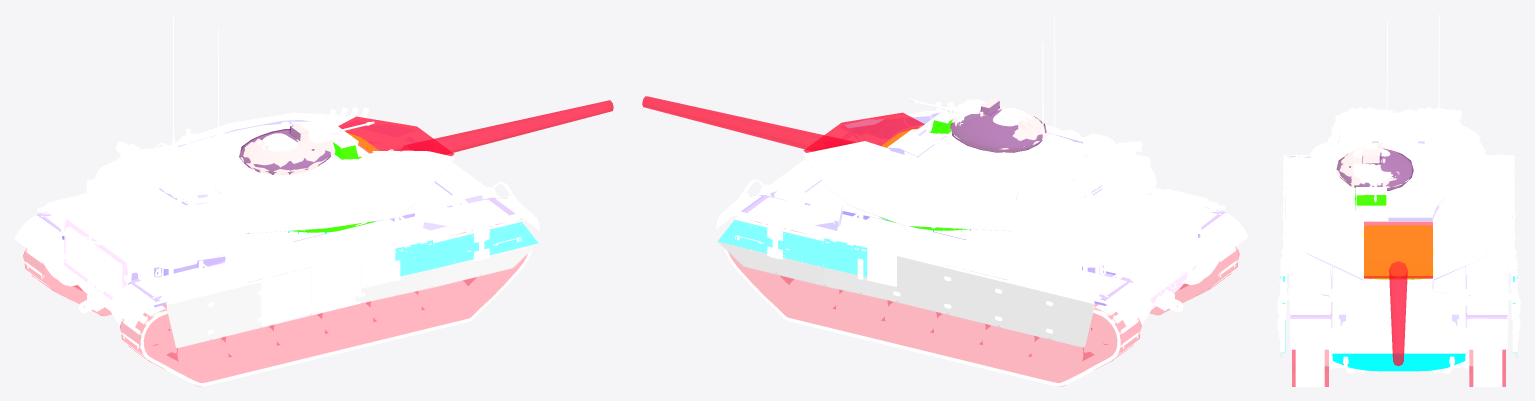
3 renders of one model, left to right at view 1: azimuth 30°, elevation 25°; view 2: azimuth 150°, elevation 25°; view 3: azimuth 270°, elevation 25°, orthographic. The views are drawn at different scales.
Visible parts, largest first — view 1: 49, 49_10, SM_M60T_Track_Col_R_68, 49_3, 49_2, SM_M60T_Sideskirt_Col_R_1, 49_5, SM_M60T_Gun_Col_71, 49_6, 49_11, SM_M60T_Sideskirt_Col_R, 49_8 (+8 smaller); view 2: 49, 49_10, SM_M60T_Track_Col_L_65, SM_M60T_Sideskirt_Col_L_1, 49_2, 49_3, 49_4, 49_6, SM_M60T_Gun_Col_71, SM_M60T_Sideskirt_Col_L, 49_11, SM_M60T_CMDR_Turret_Col_50 (+9 smaller); view 3: 49, 49_10, 49_3, SM_M60T_Gun_Col_71, SM_M60T_Turret_Col_4, 49_8, SM_M60T_Hull_Col_4, 49_11, 49_6, 49_9, SM_M60T_CMDR_Turret_Col_50, 49_4 (+9 smaller).
Part boxes in pixels (box(x1,y1,x2,y2)): 49: box(14, 123, 539, 347); 49_10: box(132, 14, 455, 242); SM_M60T_Track_Col_R_68: box(120, 224, 527, 386); 49_3: box(61, 162, 501, 313); 49_2: box(27, 250, 469, 378); SM_M60T_Sideskirt_Col_R_1: box(167, 243, 538, 348); 49_5: box(120, 222, 531, 386); SM_M60T_Gun_Col_71: box(338, 100, 613, 156); 49_6: box(95, 143, 243, 238); 49_11: box(240, 123, 335, 175); SM_M60T_Sideskirt_Col_R: box(395, 222, 537, 275); 49_8: box(116, 141, 198, 202); 49: box(716, 120, 1248, 347); 49_10: box(802, 14, 1130, 239); SM_M60T_Track_Col_L_65: box(729, 222, 1141, 386); SM_M60T_Sideskirt_Col_L_1: box(718, 242, 1093, 347); 49_2: box(787, 248, 1235, 378); 49_3: box(755, 159, 1201, 312); 49_4: box(724, 220, 1140, 386); 49_6: box(1009, 140, 1156, 254); SM_M60T_Gun_Col_71: box(642, 96, 924, 152); SM_M60T_Sideskirt_Col_L: box(717, 220, 867, 276); 49_11: box(950, 97, 1047, 152); SM_M60T_CMDR_Turret_Col_50: box(950, 101, 1046, 152); 49: box(1277, 145, 1520, 368); 49_10: box(1303, 14, 1494, 280); 49_3: box(1332, 146, 1465, 353); SM_M60T_Gun_Col_71: box(1364, 221, 1432, 366); SM_M60T_Turret_Col_4: box(1363, 225, 1433, 279); 49_8: box(1333, 106, 1461, 130); SM_M60T_Hull_Col_4: box(1332, 353, 1465, 371); 49_11: box(1336, 142, 1412, 190); 49_6: box(1327, 125, 1488, 176); 49_9: box(1310, 132, 1486, 189); SM_M60T_CMDR_Turret_Col_50: box(1336, 148, 1413, 190); 49_4: box(1473, 349, 1502, 386).
Bounding box in the file's own units: 9.44 × 5.1 × 4.04.
